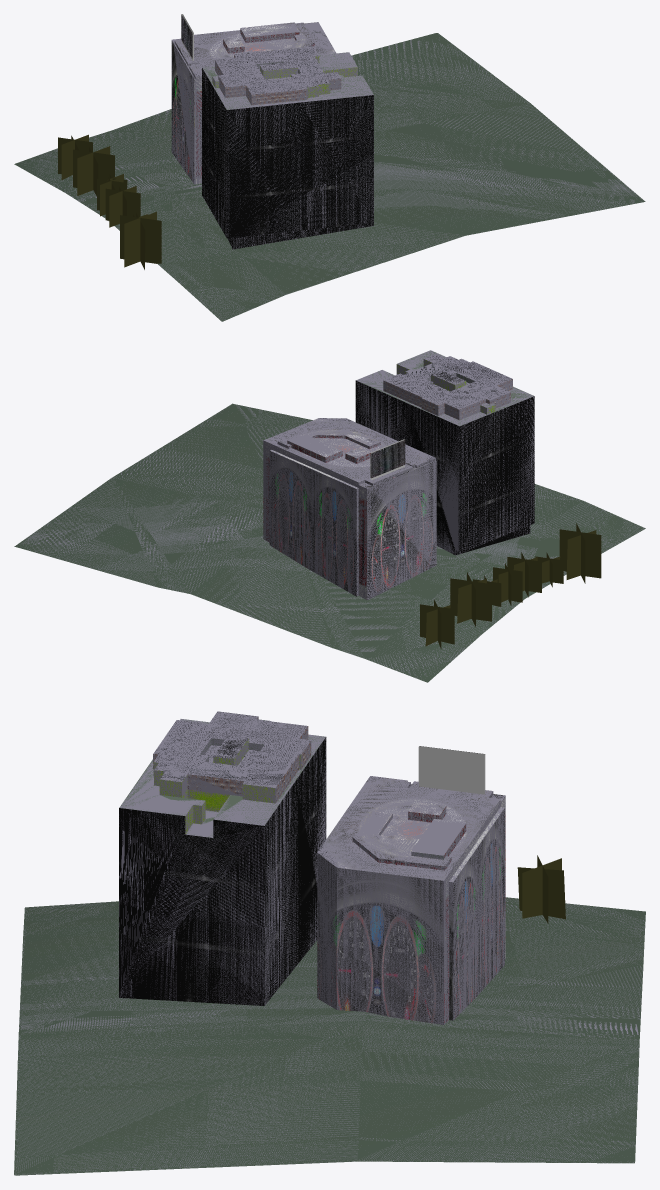
The model's file is cairo+08.fbx.
3 views of the same model, one above another, from view 1: azimuth 30°, elevation 25°; view 2: azimuth 150°, elevation 25°; view 3: azimuth 270°, elevation 25° (orthographic). The views are drawn at different scales.
Visible parts, largest first — view 1: Google_Earth_Terrain, Group1, Model, Group24, Group26, Group6, Group4, Group20, Group10, Group22; view 2: Google_Earth_Terrain, Model, Group1, Group26, Group2, Group6, Group10, Group25, Group22, Group5, Group18; view 3: Google_Earth_Terrain, Group1, Model, Group2, Group8, Group9.
Boxes of the visible parts, x1,y1,x2,y2 form: Google_Earth_Terrain: (14,33,645,321); Group1: (202,46,373,249); Model: (171,22,336,184); Group24: (120,215,161,263); Group26: (124,211,156,267); Group6: (77,146,110,195); Group4: (73,149,114,187); Group20: (105,188,140,220); Group10: (61,134,88,179); Group22: (109,186,136,227); Google_Earth_Terrain: (14,403,645,682); Model: (263,418,436,600); Group1: (355,350,534,555); Group26: (559,529,601,578); Group2: (370,439,405,480); Group6: (450,578,491,621); Group10: (420,604,454,644); Group25: (566,530,596,579); Group22: (507,557,541,592); Group5: (457,578,486,623); Group18: (493,567,522,602); Google_Earth_Terrain: (14,897,645,1175); Group1: (119,711,326,1005); Model: (317,776,505,1024); Group2: (418,746,485,794); Group8: (522,858,561,918); Group9: (517,867,565,919).
Bounding box in the file's own units: 169 × 61.65 × 141.
